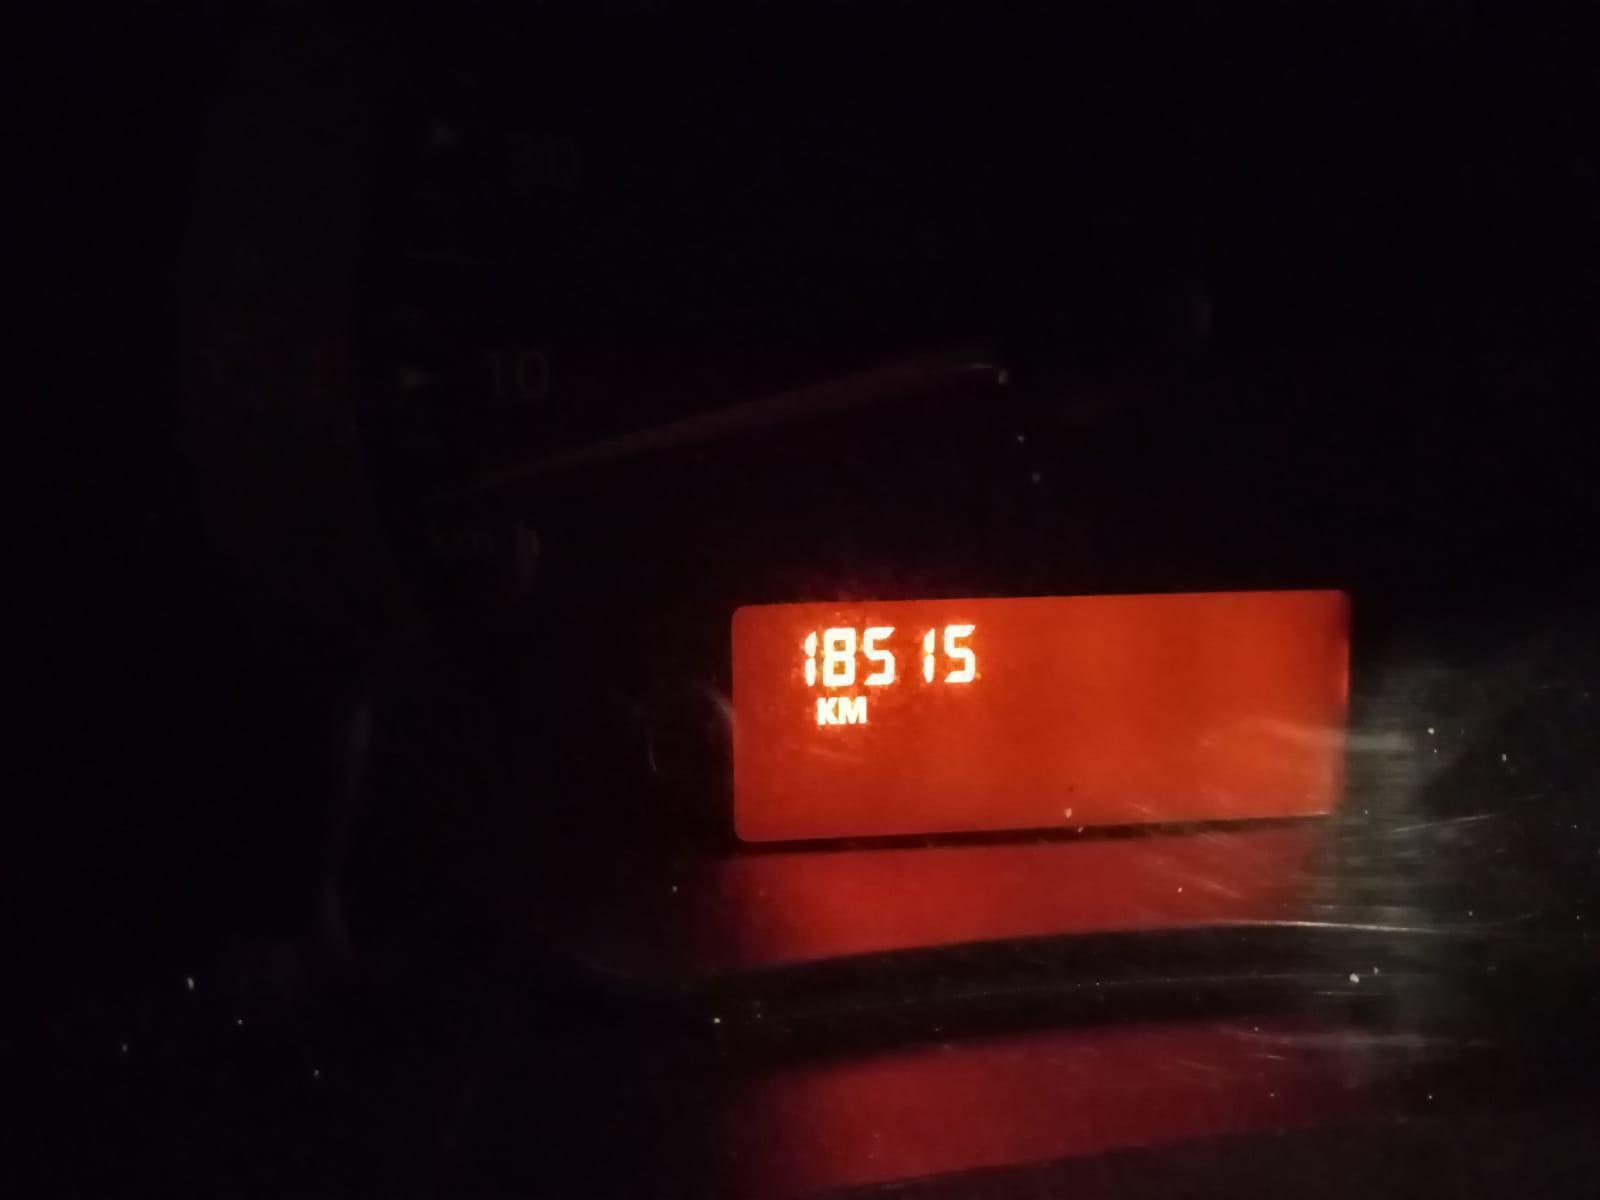1: (799, 626, 819, 687), (918, 624, 937, 684)
5: (860, 623, 897, 688), (942, 621, 976, 684)
8: (821, 625, 857, 688)
X: (837, 693, 868, 726), (813, 695, 837, 729)
odometer: (722, 579, 1359, 856)
